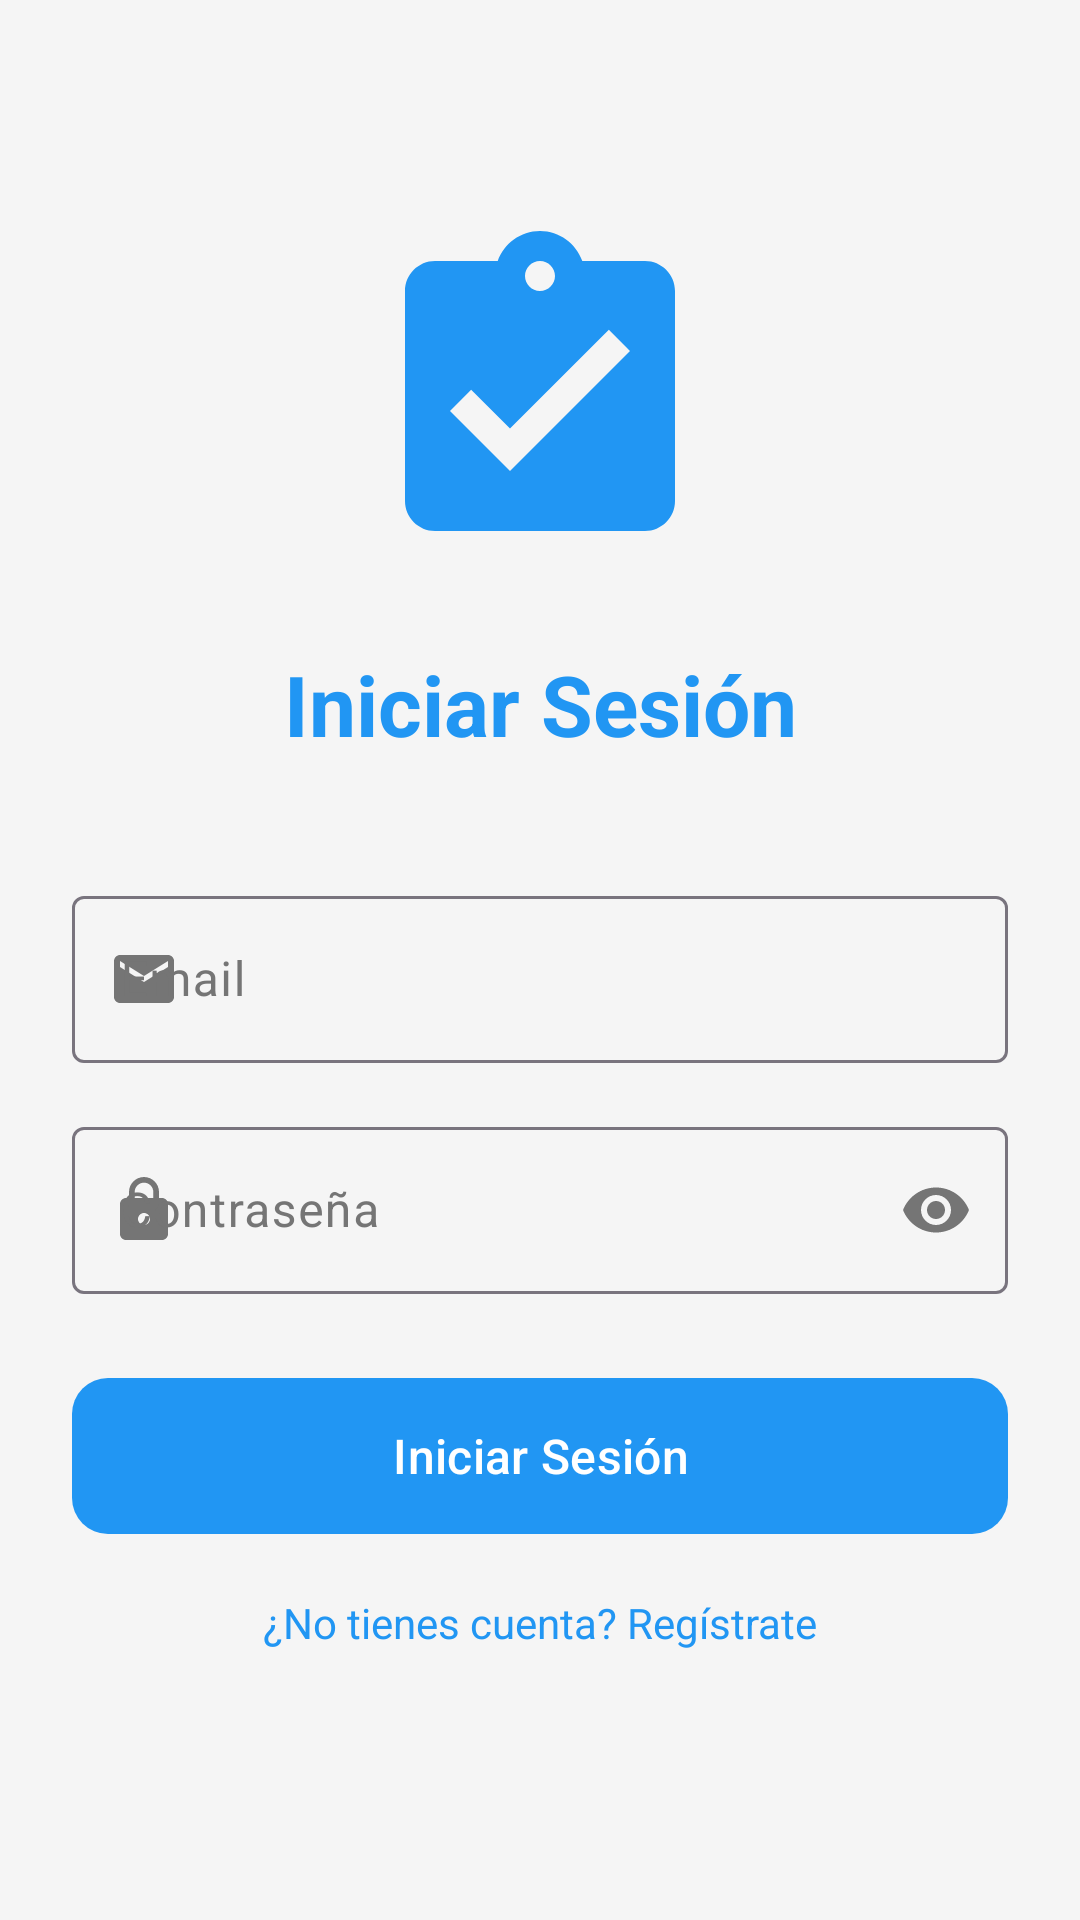

Icon click points for this 1080 x 1920 phone screenshot, format [x,y]:
todo list: [540,381]
